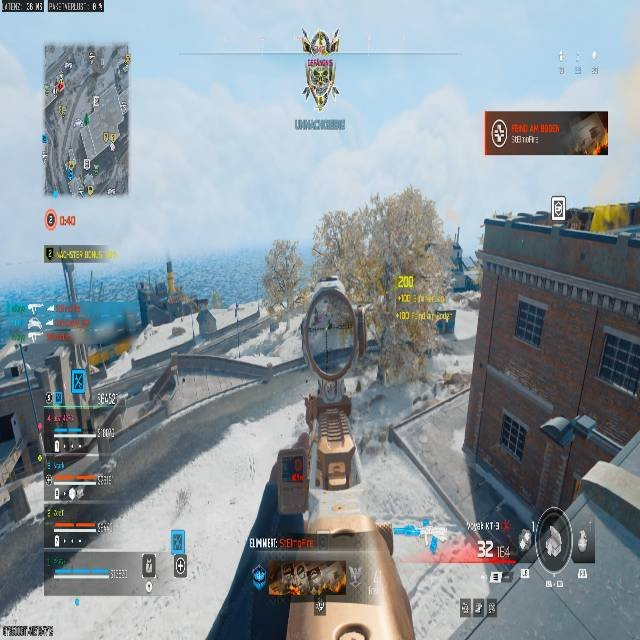head: (331, 622, 372, 640)
